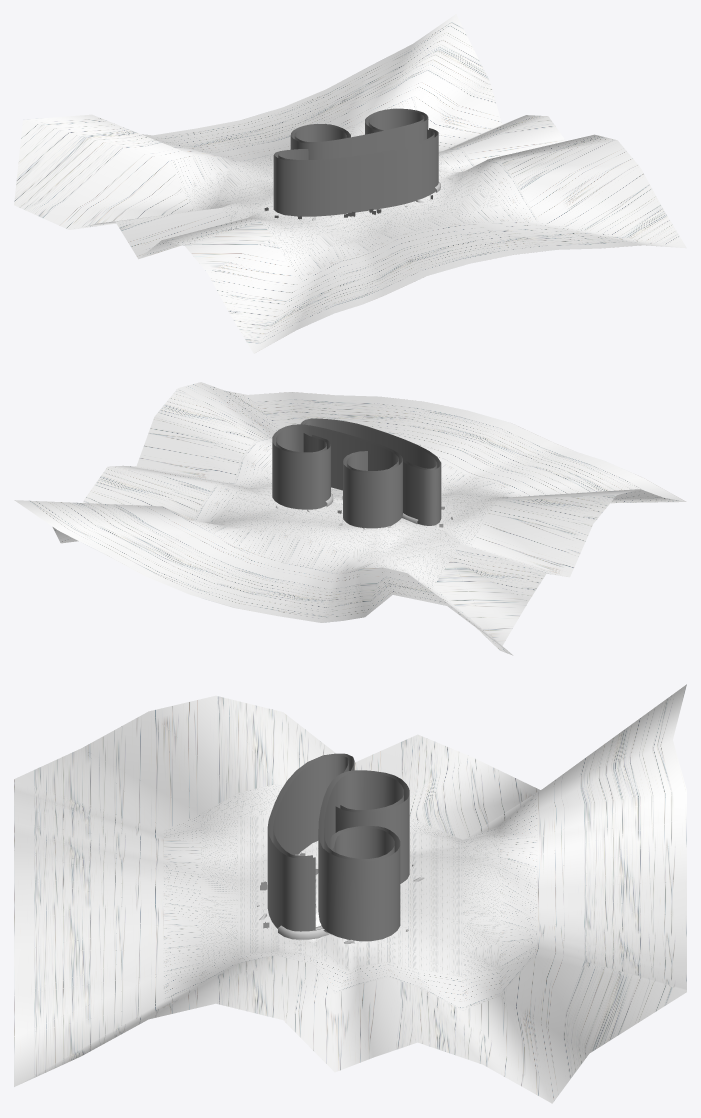
The model's file is FBX_Map_Nevada.FBX.
3 views of the same model, one above another, from view 1: azimuth 30°, elevation 25°; view 2: azimuth 150°, elevation 25°; view 3: azimuth 270°, elevation 25° (orthographic). The views are drawn at different scales.
Visible parts, largest first — view 1: Plane002, Bound; view 2: Plane002, Bound; view 3: Plane002, Bound.
Part boxes in pixels (left/top/right/bottom): Plane002: left=14, top=14, right=686, bottom=353; Bound: left=273, top=108, right=438, bottom=216; Plane002: left=14, top=382, right=686, bottom=655; Bound: left=272, top=418, right=441, bottom=528; Plane002: left=14, top=684, right=686, bottom=1103; Bound: left=267, top=753, right=409, bottom=941.
Size of the model in its own units: 140 by 28.26 by 120.
